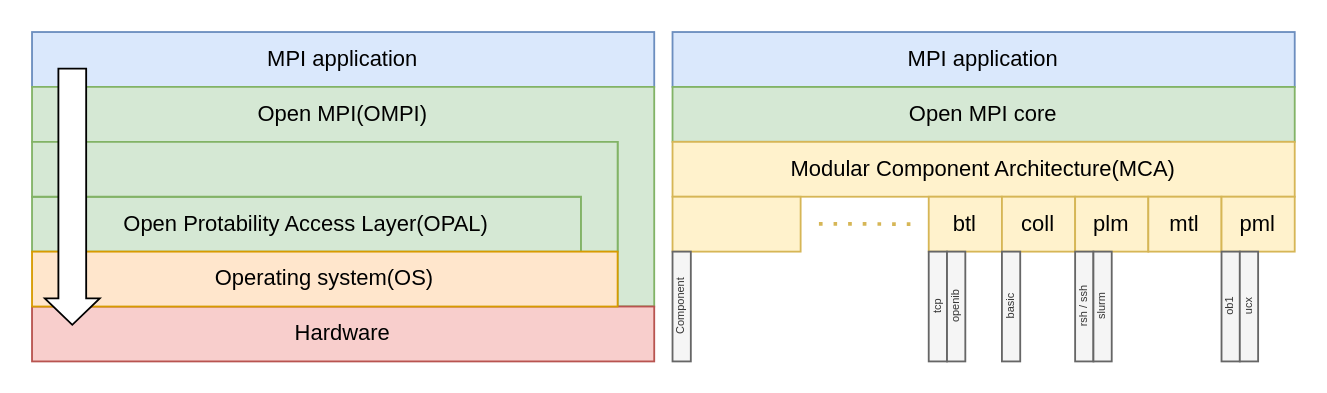
The diagram is 1327 pixels wide and 393 high, and some of its shapes have lost their labels. Here are the shapes that lost their labels. From the top down, the centre of each, then its label:
the point at 324,196: Open MPI Run-Time Environment(ORTE)
the point at 736,223: Framework
